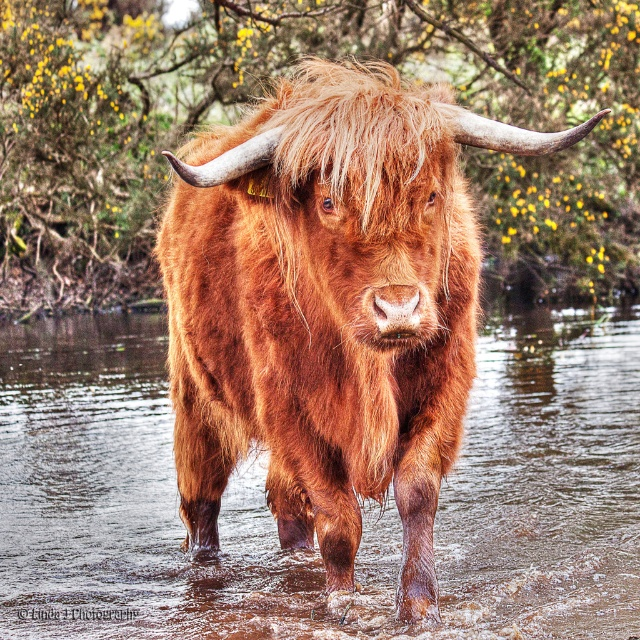Bull: (147, 52, 611, 621)
